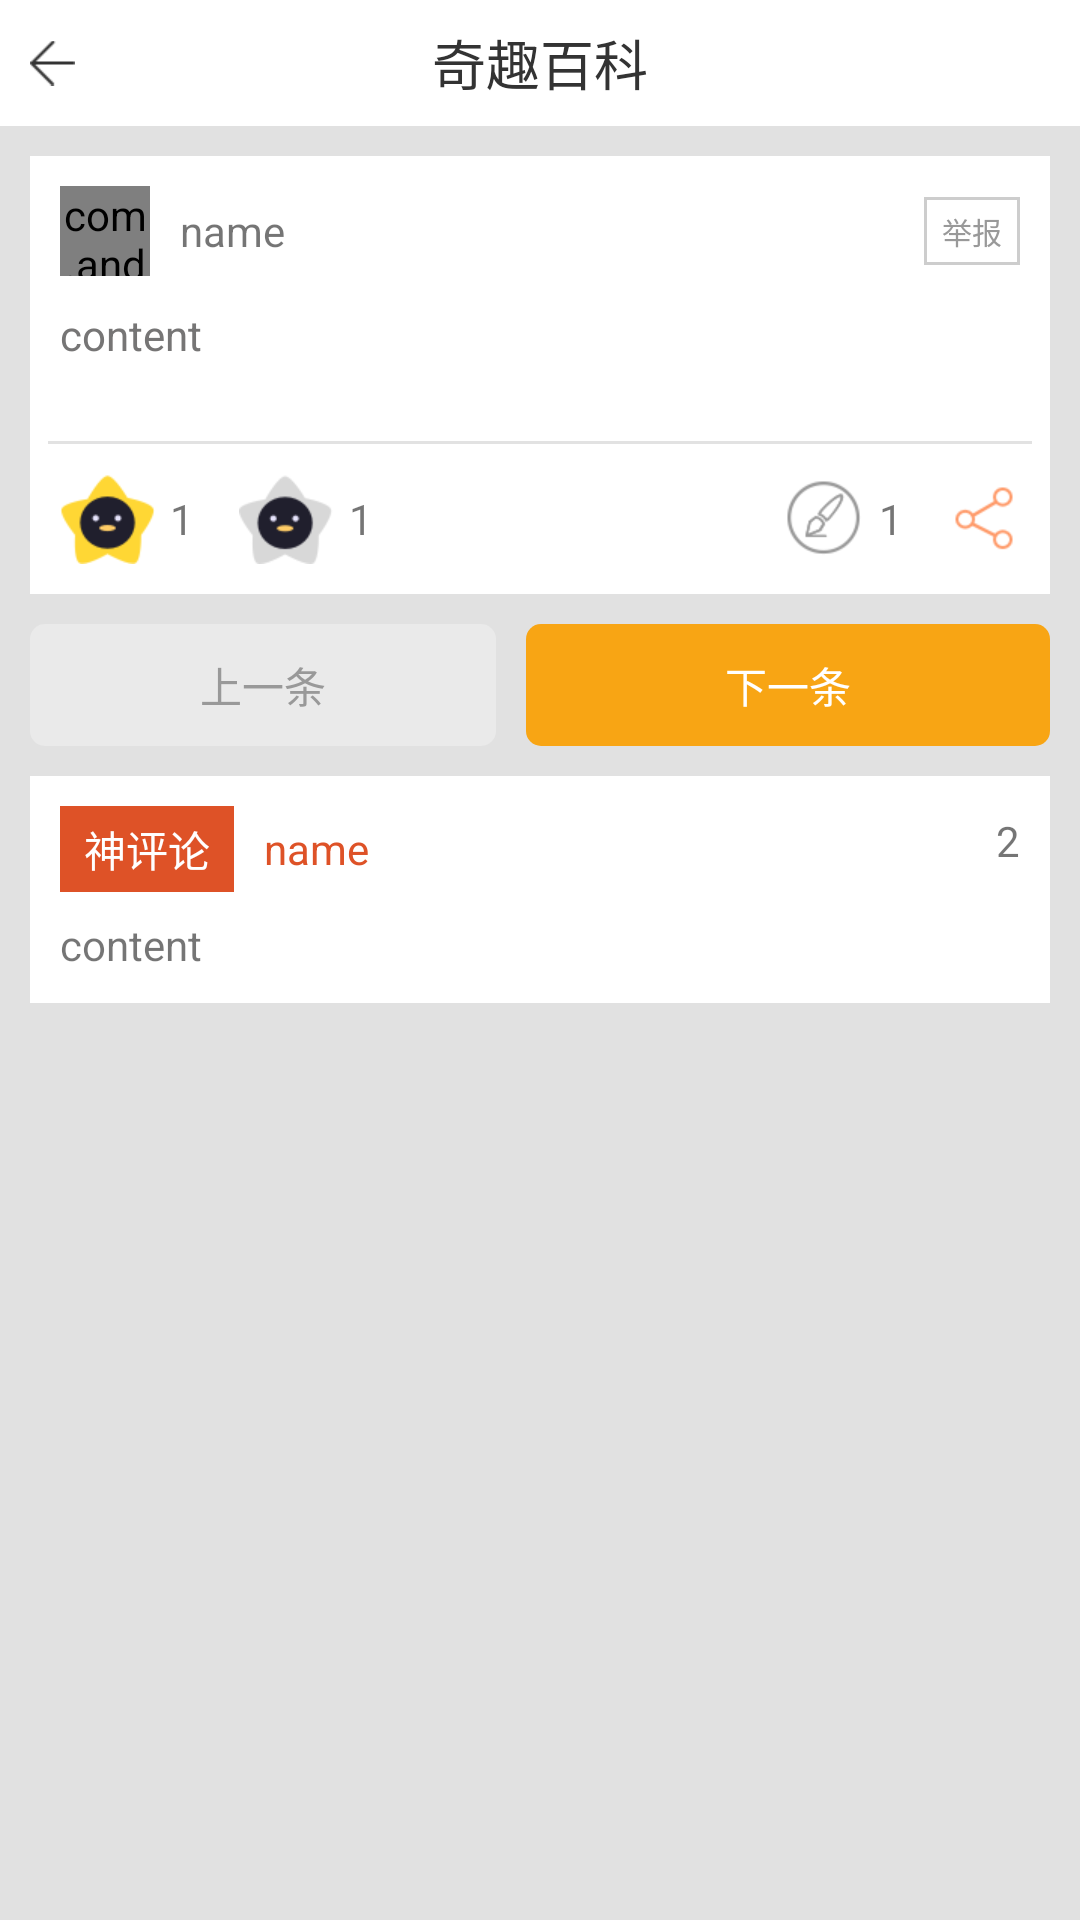

Where to tap for icons on this 1080px×1920px app screen, as [x,y]:
back: [52,63]
reading last share: [984,518]
